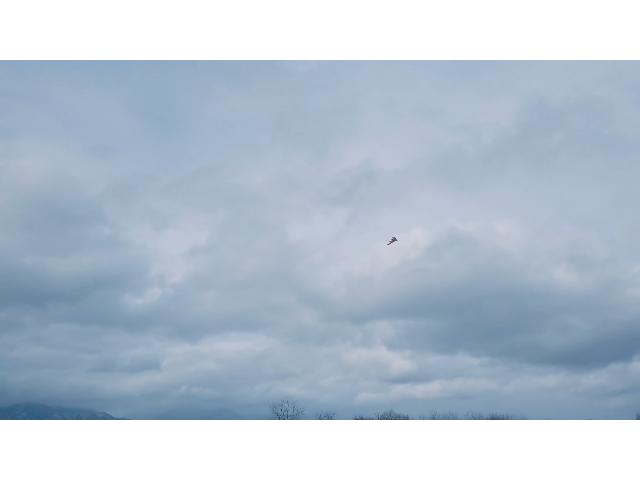Anti-Drone: (384, 234, 400, 248)
